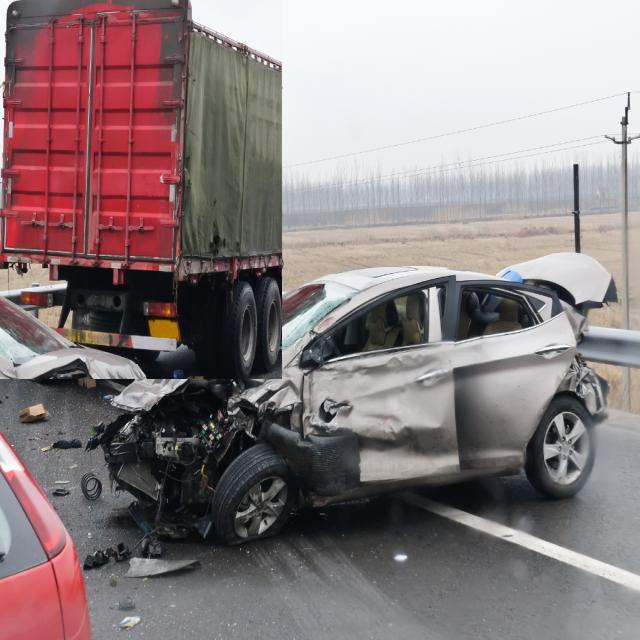accident: (89, 253, 615, 544)
truck: (0, 0, 282, 379)
